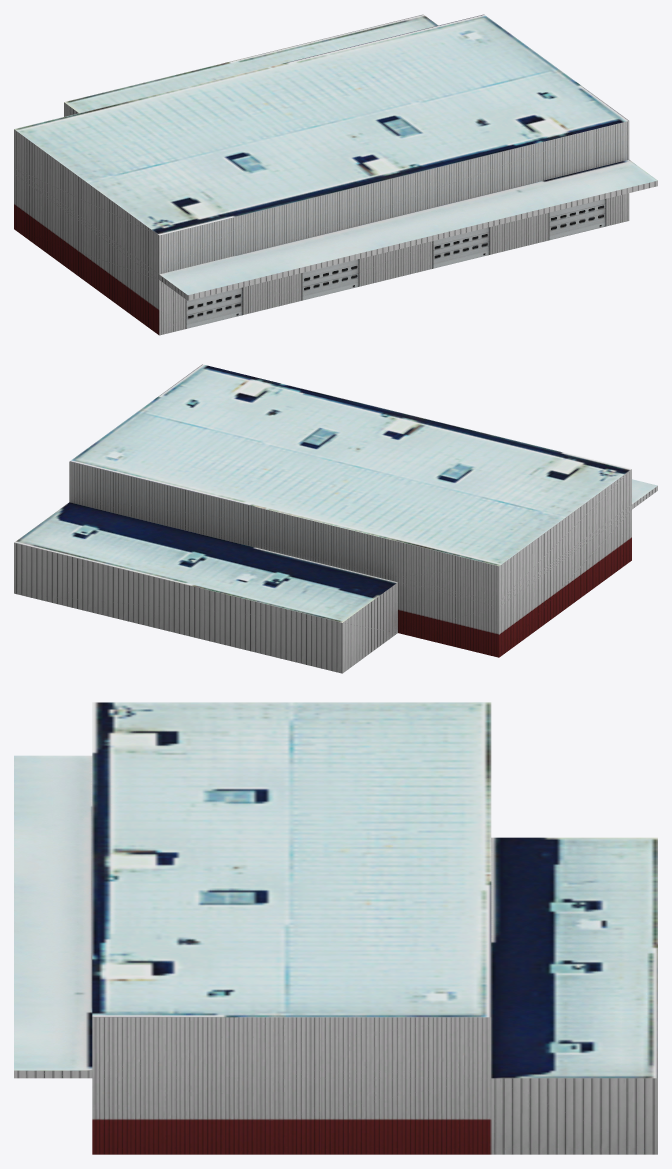
File: Building10.gltf
The picture shows the model from 3 angles, top to bottom: view 1: azimuth 30°, elevation 25°; view 2: azimuth 150°, elevation 25°; view 3: azimuth 270°, elevation 25°; orthographic projection. The views are drawn at different scales.
Visible parts, largest first — view 1: Building10; view 2: Building10; view 3: Building10.
Part boxes in pixels (bbox=[...]): Building10: bbox=[14, 14, 657, 335]; Building10: bbox=[14, 364, 657, 673]; Building10: bbox=[14, 702, 657, 1154].
Size of the model in its own units: 44.26 by 9 by 38.25.
1 material, 1 textured.
